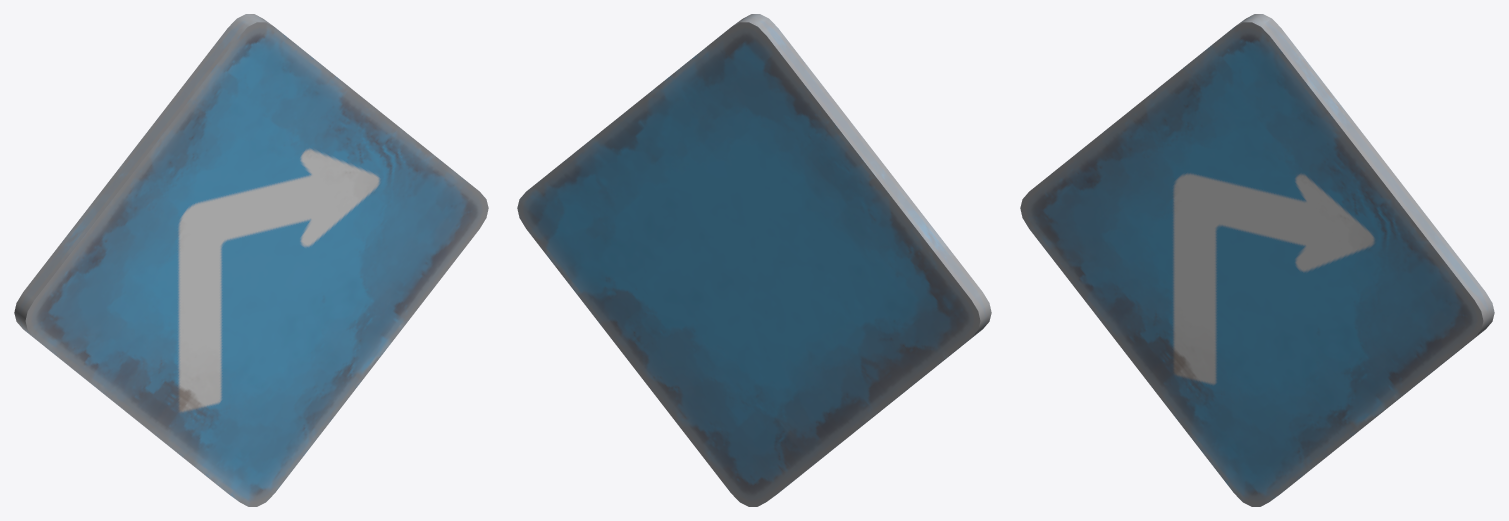
The model's file is SM_roadsign_curve.fbx.
3 views of the same model, side by side, from view 1: azimuth 30°, elevation 25°; view 2: azimuth 150°, elevation 25°; view 3: azimuth 330°, elevation 25° (orthographic).
Visible parts, largest first — view 1: Box332; view 2: Box332; view 3: Box332.
Part boxes in pixels (x1,y1,x2,y2): Box332: (14,14,488,506); Box332: (517,14,991,506); Box332: (1020,14,1494,506).
Size of the model in its own units: 22.96 by 22.96 by 0.9634.
